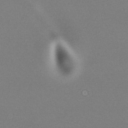normal: (16, 1, 59, 38)
